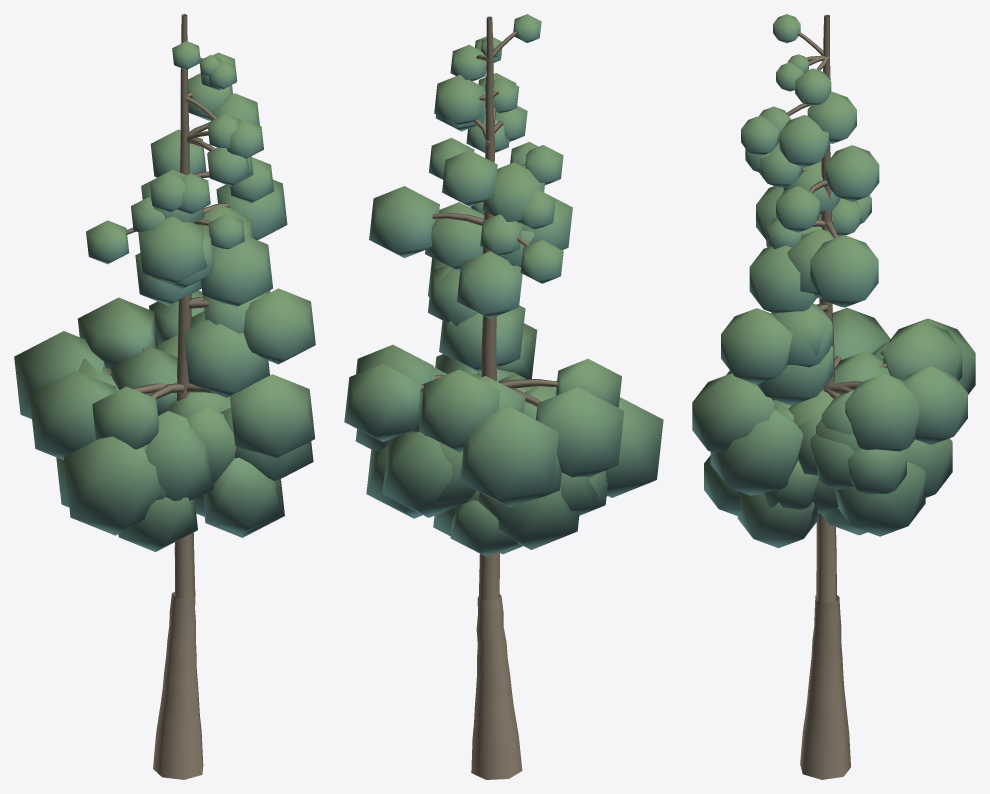
The model's file is seed_conifer_a.glb.
3 renders of one model, left to right at view 1: azimuth 30°, elevation 25°; view 2: azimuth 150°, elevation 25°; view 3: azimuth 270°, elevation 25°, orthographic.
Visible parts, largest first — view 1: seed_conifer_a_LOD0; view 2: seed_conifer_a_LOD0; view 3: seed_conifer_a_LOD0.
Part boxes in pixels (<box>): seed_conifer_a_LOD0: <box>14,14,315,779</box>; seed_conifer_a_LOD0: <box>344,14,663,779</box>; seed_conifer_a_LOD0: <box>692,14,975,779</box>.
Size of what is drawn, in the model's own units: 3.71 by 10.76 by 3.66.
